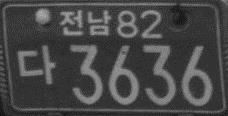2: (140, 9, 162, 39)
3: (68, 42, 104, 105), (141, 44, 177, 105)
6: (181, 44, 213, 107), (107, 43, 139, 105)
8: (116, 9, 137, 38)
다: (16, 43, 56, 86)
전남_O: (59, 9, 112, 36)
